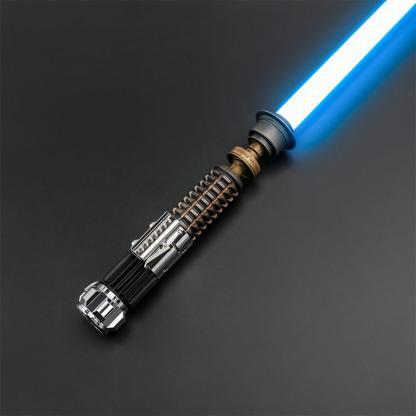lightsaber: (73, 0, 416, 343)
